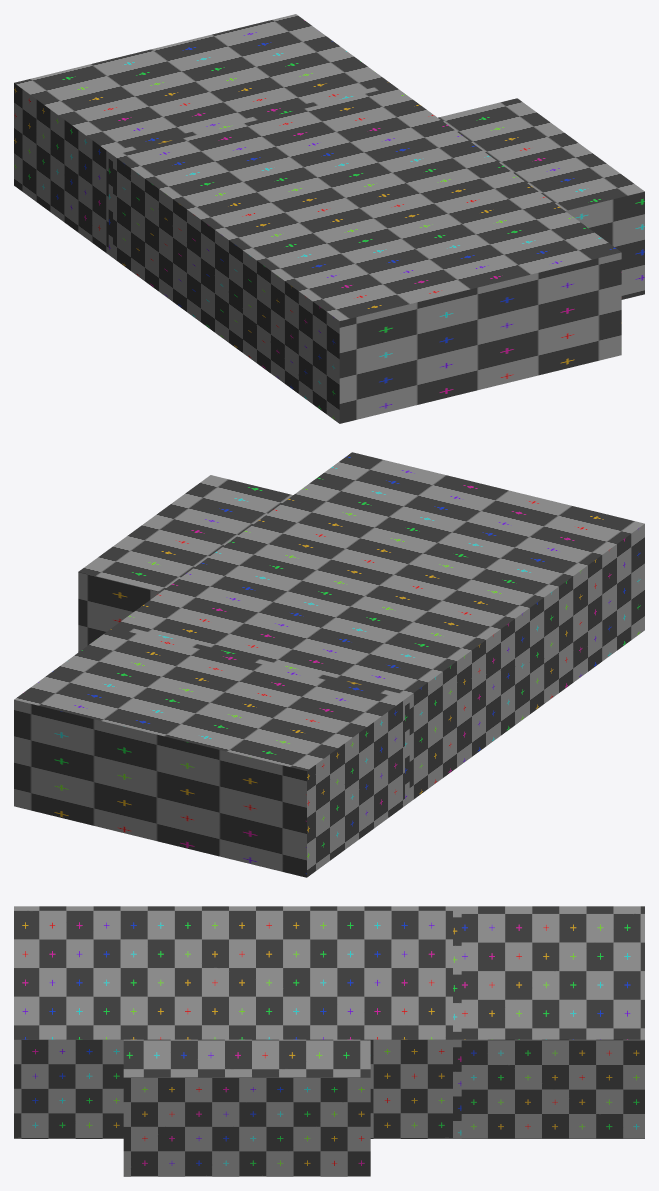
File: scenario_prototype_exterior_floor_01_right.fbx
3 renders of one model, top to bottom at view 1: azimuth 30°, elevation 25°; view 2: azimuth 150°, elevation 25°; view 3: azimuth 270°, elevation 25°, orthographic. The views are drawn at different scales.
Parts seen in each view (by area): view 1: exterior_floor01_right; view 2: exterior_floor01_right; view 3: exterior_floor01_right.
Boxes of the visible parts, left/top/right/bottom form: exterior_floor01_right: left=14, top=14, right=644, bottom=423; exterior_floor01_right: left=14, top=452, right=644, bottom=877; exterior_floor01_right: left=14, top=906, right=644, bottom=1176.
Bounding box in the file's own units: 1474 × 400 × 2299.
